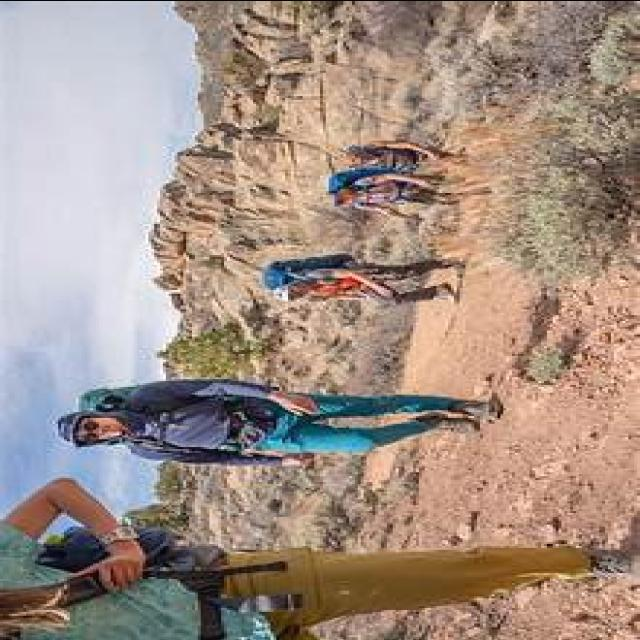backpack: (260, 255, 359, 292)
